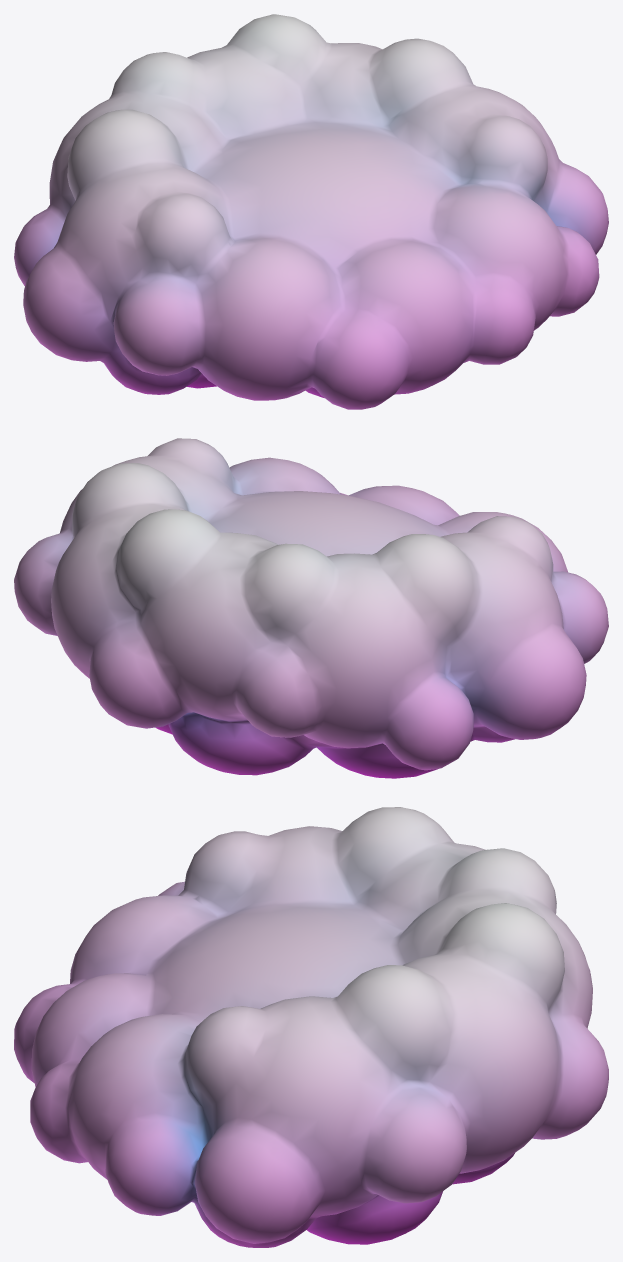
File: mascot_cloud.glb
3 renders of one model, top to bottom at view 1: azimuth 30°, elevation 25°; view 2: azimuth 150°, elevation 25°; view 3: azimuth 270°, elevation 25°, orthographic. The views are drawn at different scales.
Visible parts, largest first — view 1: HERO_MascotCloud; view 2: HERO_MascotCloud; view 3: HERO_MascotCloud.
Boxes of the visible parts, bbox=[...] form: HERO_MascotCloud: bbox=[14, 14, 608, 409]; HERO_MascotCloud: bbox=[14, 438, 608, 778]; HERO_MascotCloud: bbox=[14, 807, 608, 1247].
Size of the model in its own units: 2.98 by 1.43 by 2.53.
